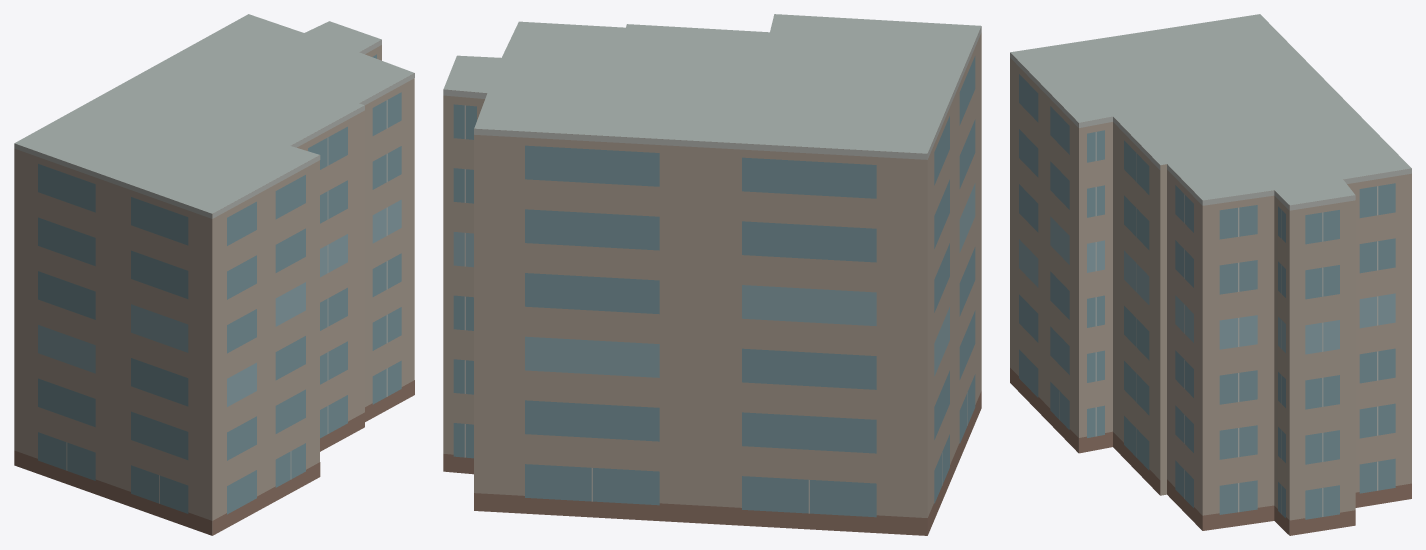
Rendered from survey-upis-32849640.glb.
3 views of the same model, side by side, from view 1: azimuth 30°, elevation 25°; view 2: azimuth 150°, elevation 25°; view 3: azimuth 270°, elevation 25° (orthographic). The views are drawn at different scales.
Parts seen in each view (by area): view 1: survey-upis-32849640.tmp; view 2: survey-upis-32849640.tmp; view 3: survey-upis-32849640.tmp.
Boxes of the visible parts, x1=… form: survey-upis-32849640.tmp: x1=14, y1=14, x2=414, y2=535; survey-upis-32849640.tmp: x1=443, y1=14, x2=981, y2=535; survey-upis-32849640.tmp: x1=1010, y1=14, x2=1411, y2=535.
Bounding box in the file's own units: 18.89 × 15.2 × 16.75.
